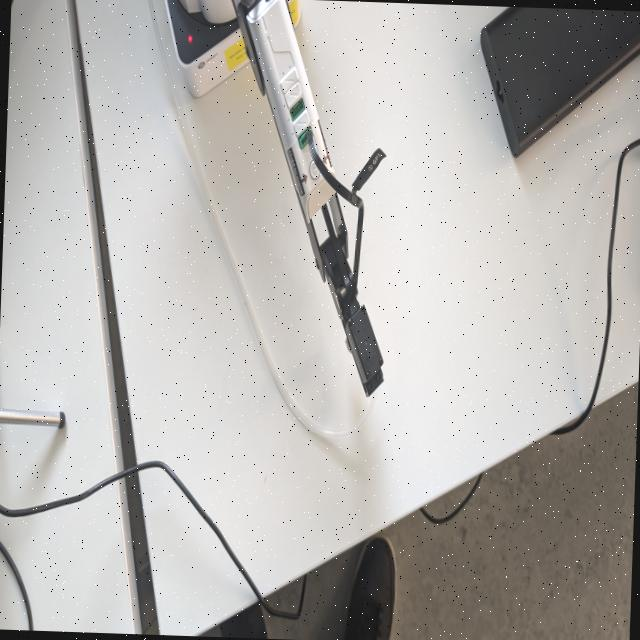Robot-end-effector-HF8z: (332, 288, 391, 400)
